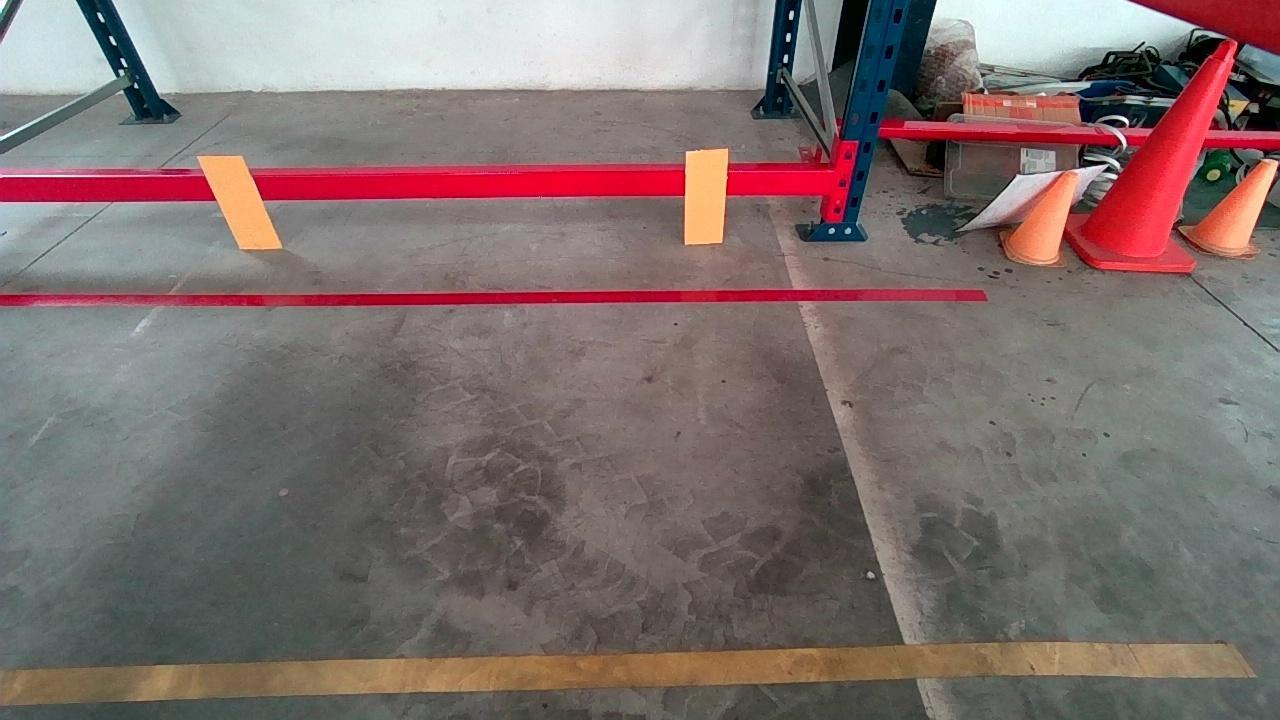h_rack: (5, 166, 841, 207)
orange_strip: (199, 155, 282, 248), (684, 149, 727, 242)
red_line: (0, 288, 989, 301)
yellow_line: (10, 633, 1241, 712)
